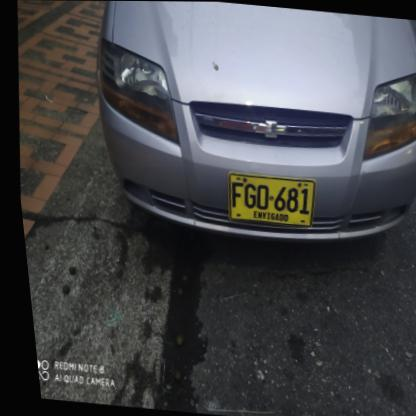placa: (212, 162, 321, 235)
